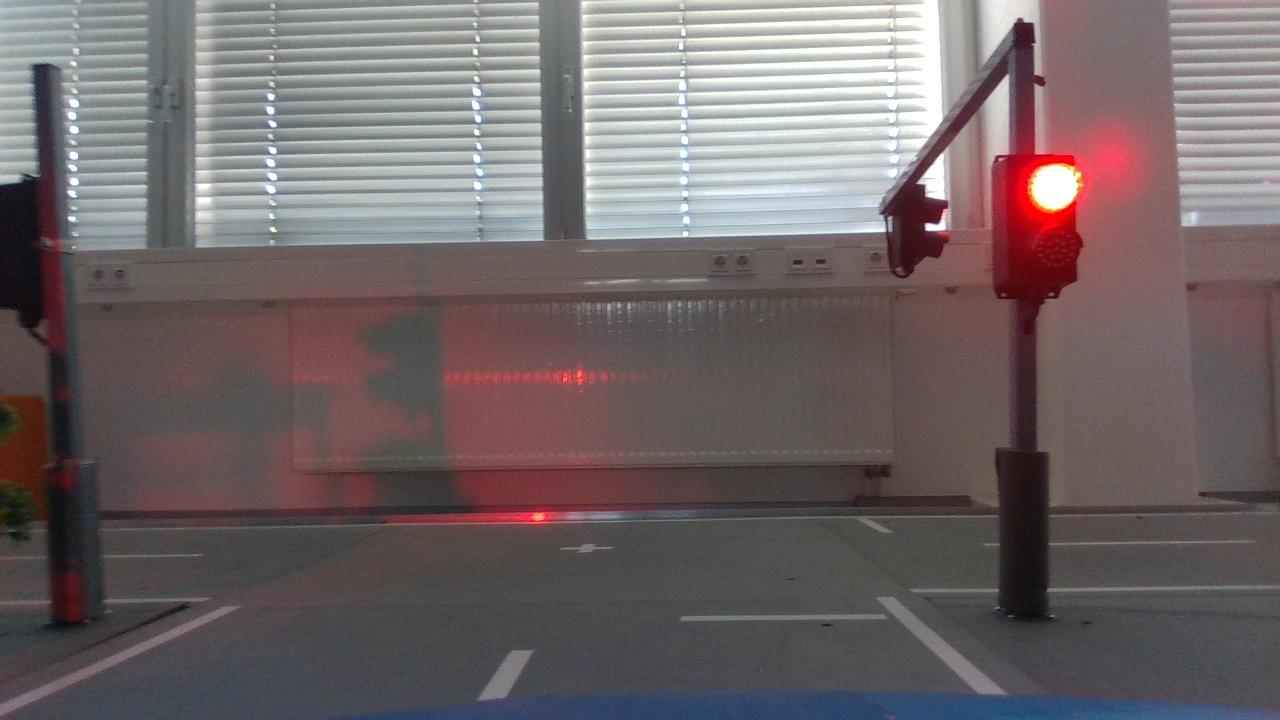traffic_light_red: (962, 138, 1106, 312)
